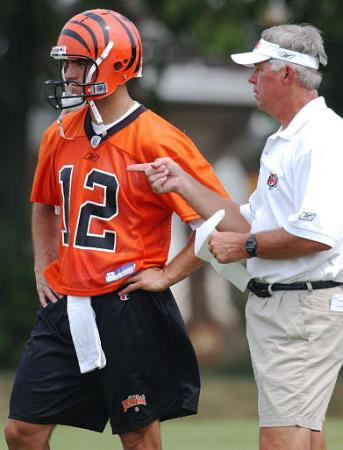Face: (49, 46, 106, 110), (245, 54, 289, 118)
